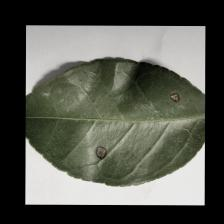canker: (79, 76, 196, 173)
